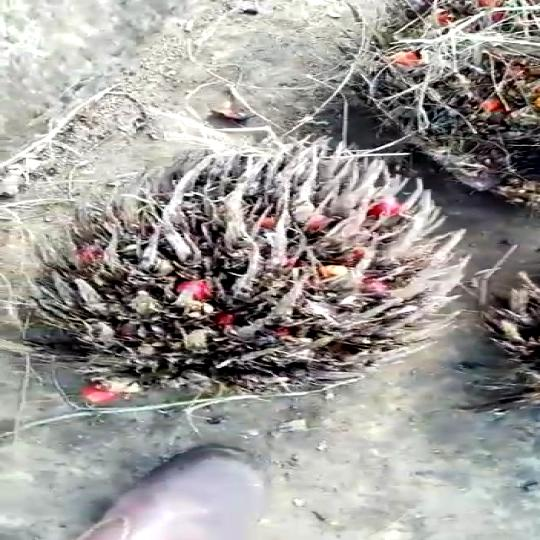terlalu masak: (0, 127, 474, 408)
